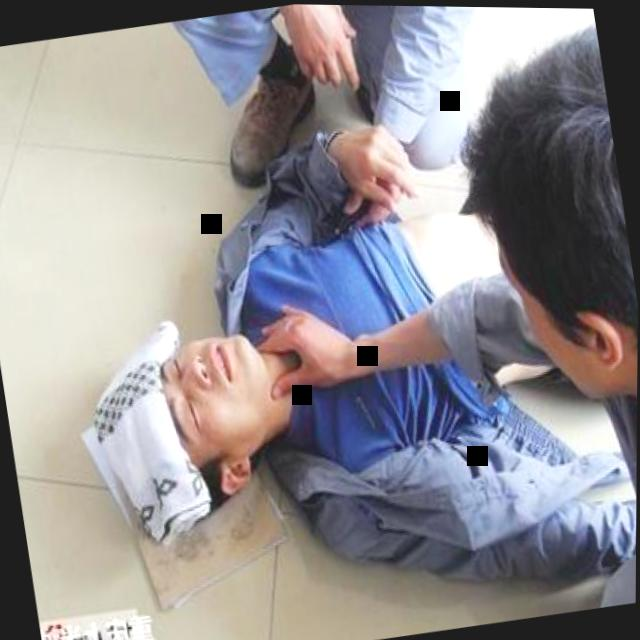Fall-Detected: (54, 40, 640, 640)
